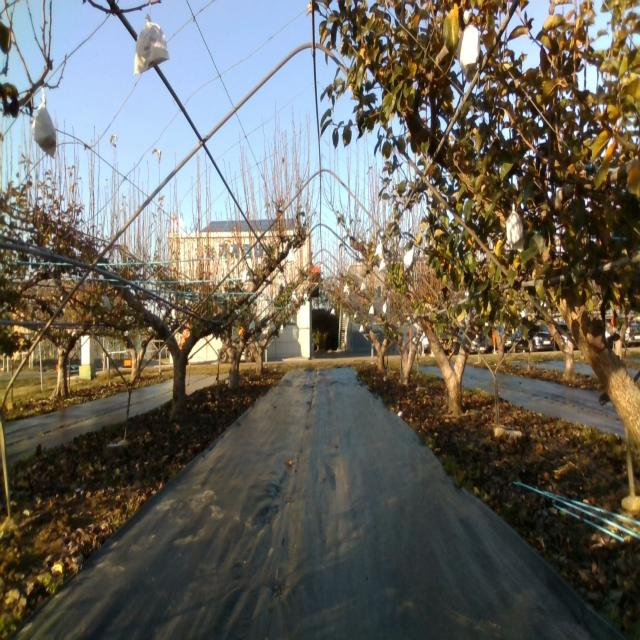pearbags: (134, 15, 169, 76), (32, 94, 55, 161), (458, 23, 482, 80), (506, 210, 524, 250), (403, 250, 414, 270)
